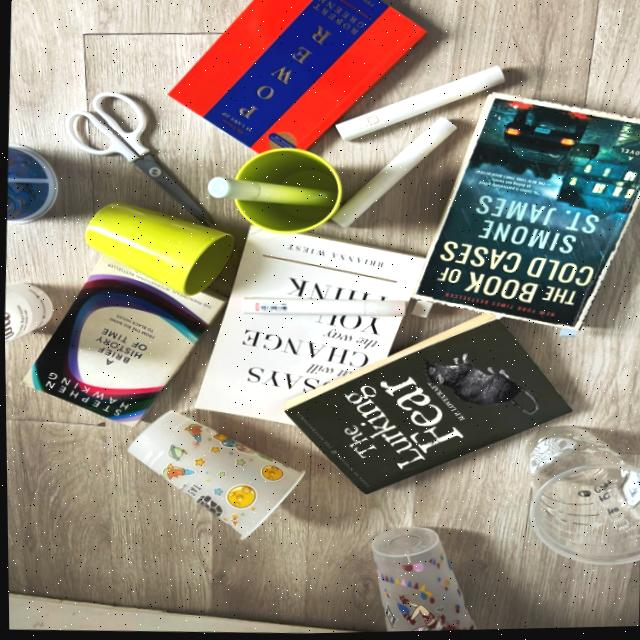Book: (415, 97, 640, 329), (284, 316, 570, 495), (192, 226, 425, 428), (168, 0, 424, 154), (30, 259, 224, 425)
HighLight Pen: (331, 120, 455, 228), (336, 69, 503, 142), (207, 178, 335, 208), (241, 298, 405, 319)
Plastic Cup: (126, 412, 303, 539), (526, 429, 640, 567), (370, 529, 476, 633), (6, 145, 56, 223), (4, 282, 51, 341)
Scissors: (65, 92, 212, 225)
WaterGlass: (85, 203, 233, 296), (233, 150, 340, 234)
